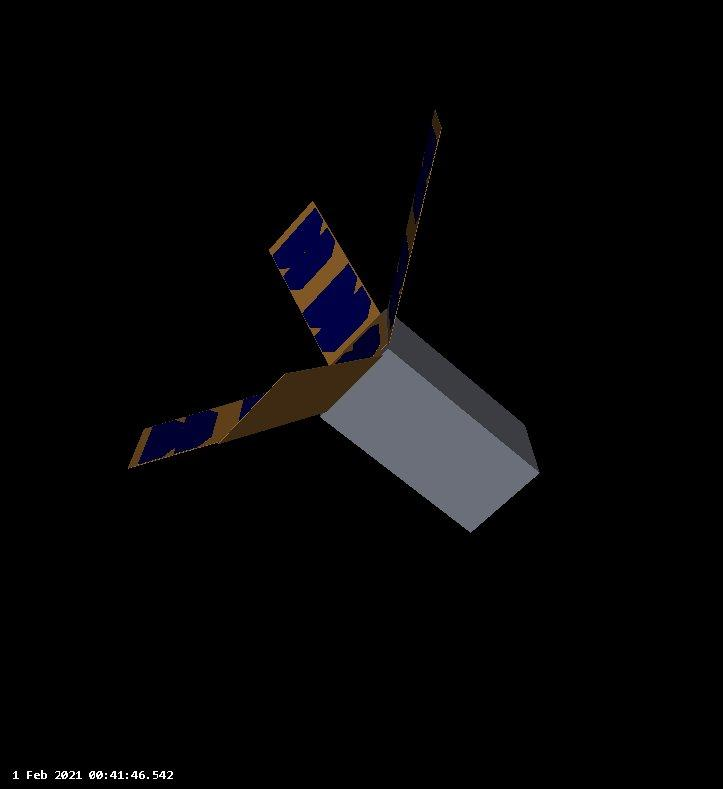body: (317, 313, 543, 536)
solar: (267, 199, 380, 368), (216, 352, 387, 446), (380, 107, 444, 346), (125, 389, 271, 471), (328, 306, 392, 368)
